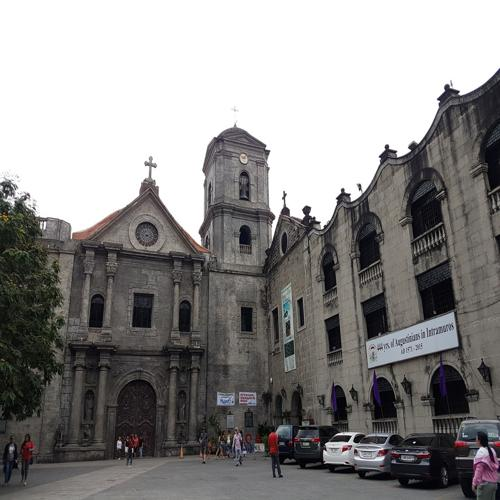San Agustin Church: (69, 98, 273, 462)
